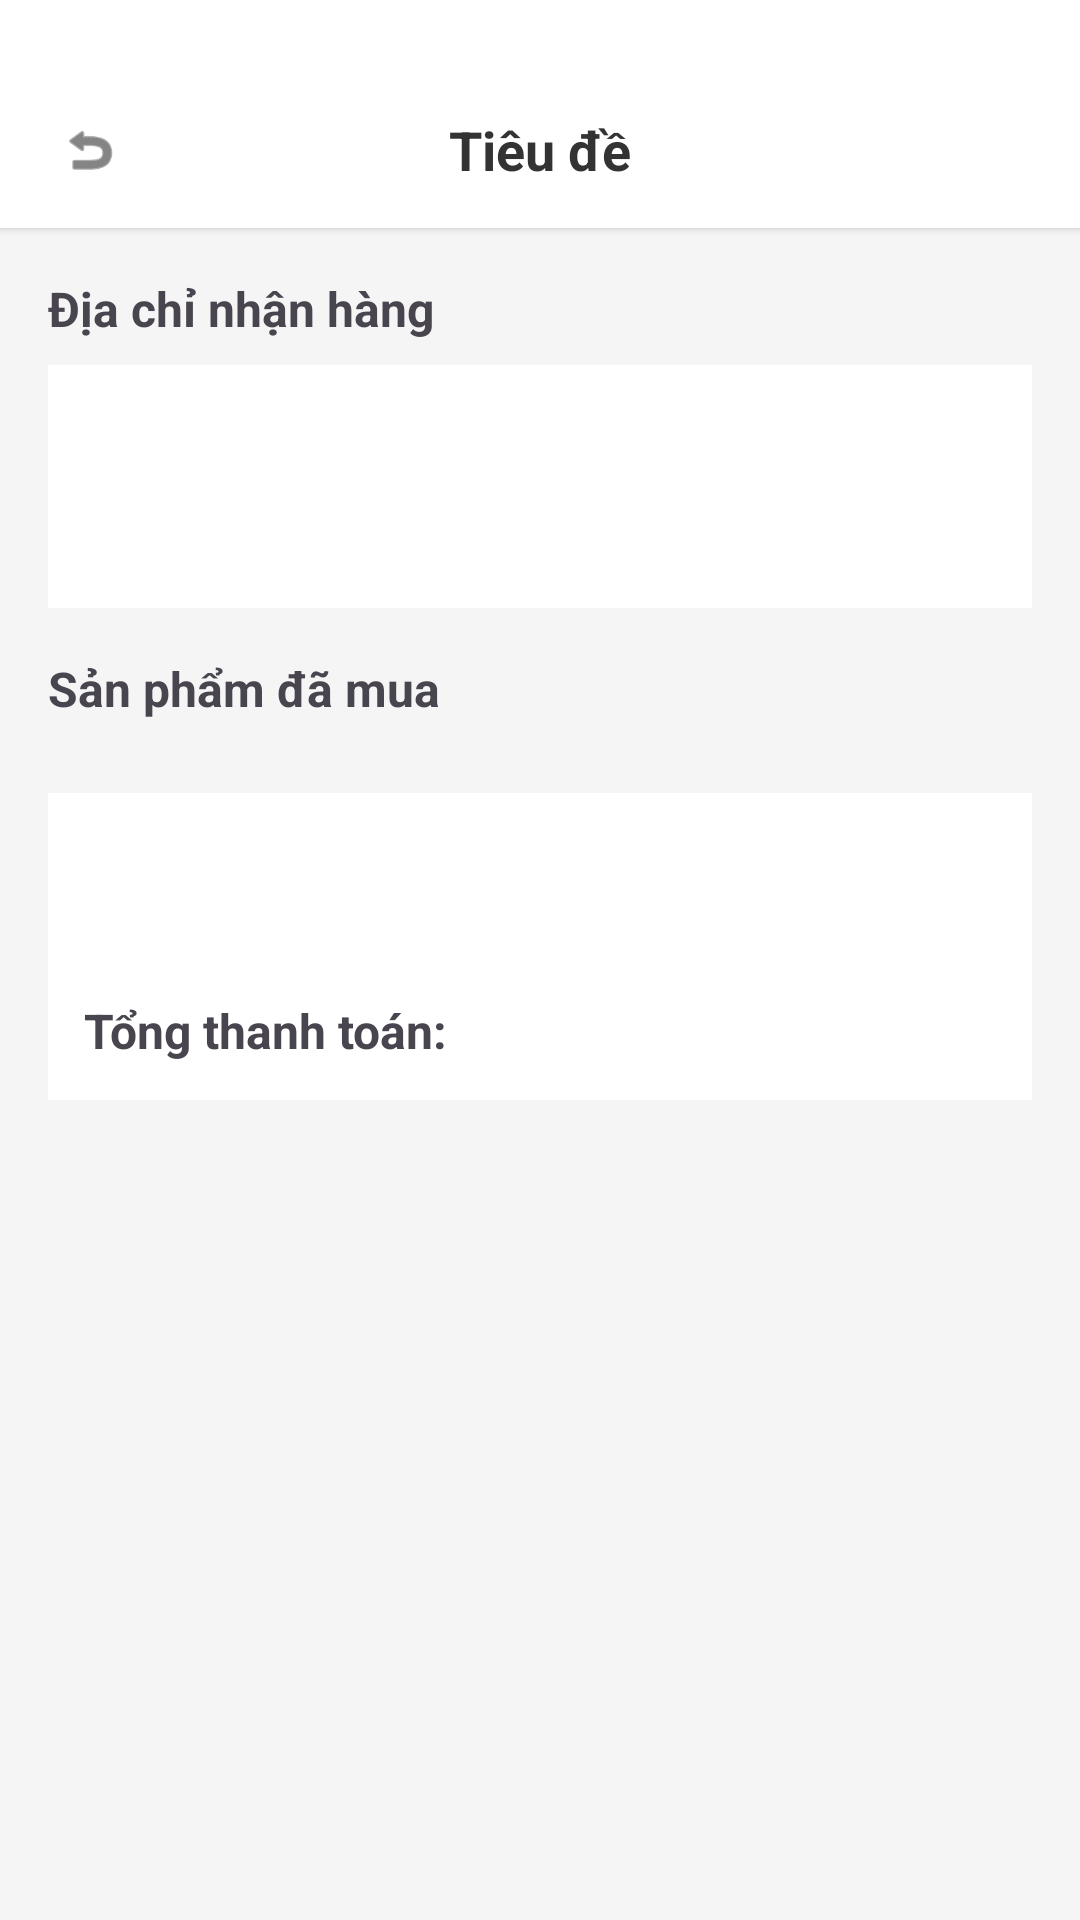

Screen size 1080×1920. Icon name, then its box in pixels as (x1, y1, x2, y2):
revert: (69, 131, 112, 170)
